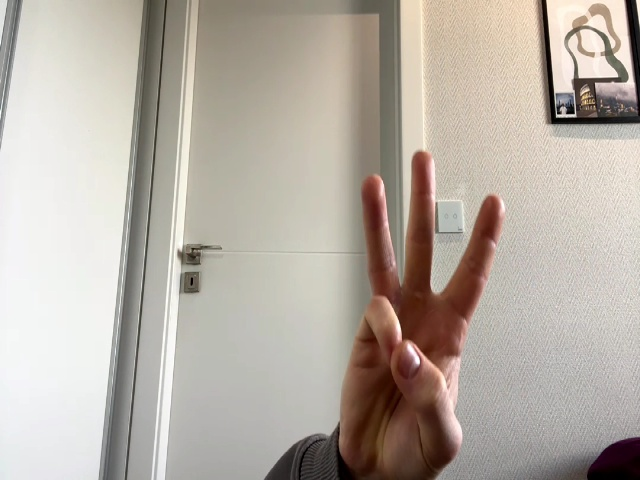W: (339, 151, 506, 473)
